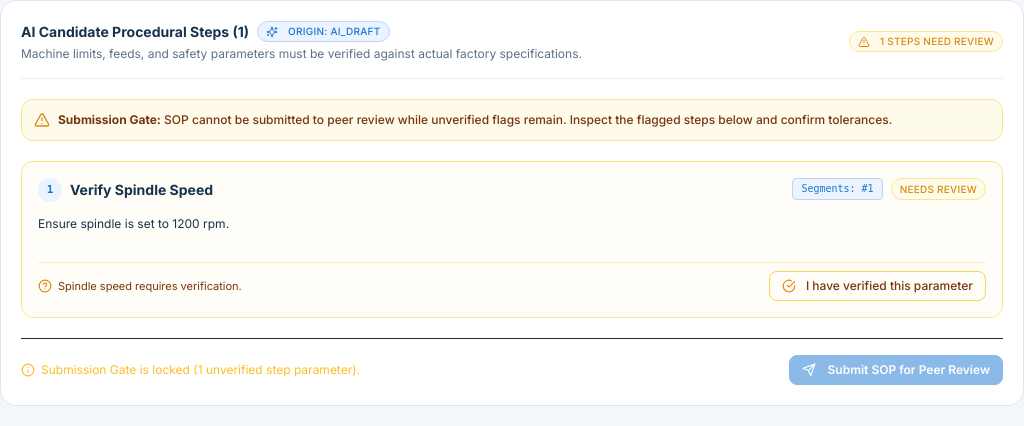
Scenario: Voice-to-Knowledge & RAG UI Component Tests › enforces submission gate: locked when unverified flags remain, unlocked when cleared
Check: the button "Submit SOP for Peer Review" is disabled, box [788, 354, 1003, 384]
Check: the text "Submission Gate is locked (1 unverified step parameter)." is shown, box [21, 362, 360, 378]
// Click verify parameter
Click the button "I have verified this parameter" at (877, 286), box [769, 270, 986, 300]
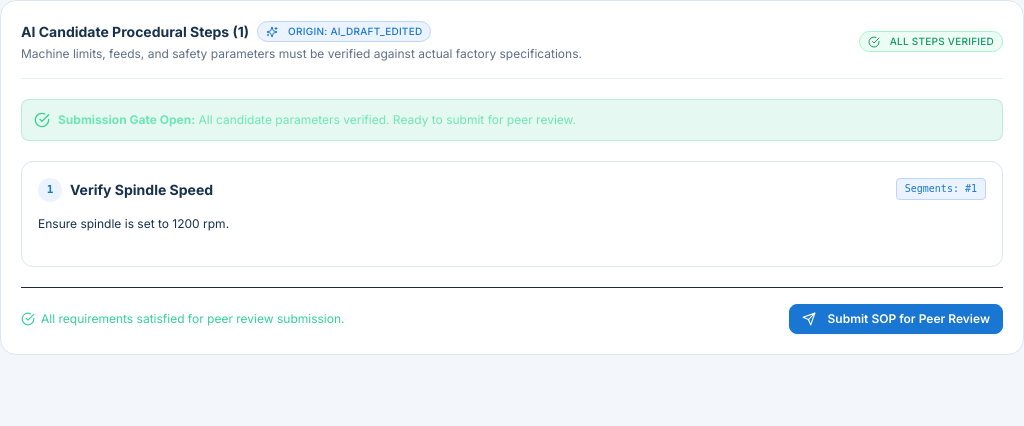
Check: the button "Submit SOP for Peer Review" is enabled
// Click submit
Click the button "Submit SOP for Peer Review" at (896, 318), box [788, 304, 1003, 334]
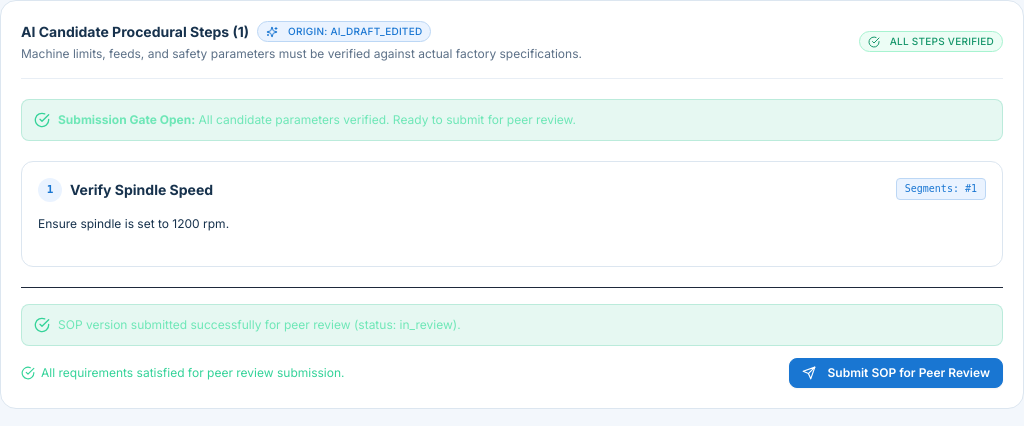
Check: the text "SOP version submitted successfully" is shown, box [58, 316, 461, 332]
